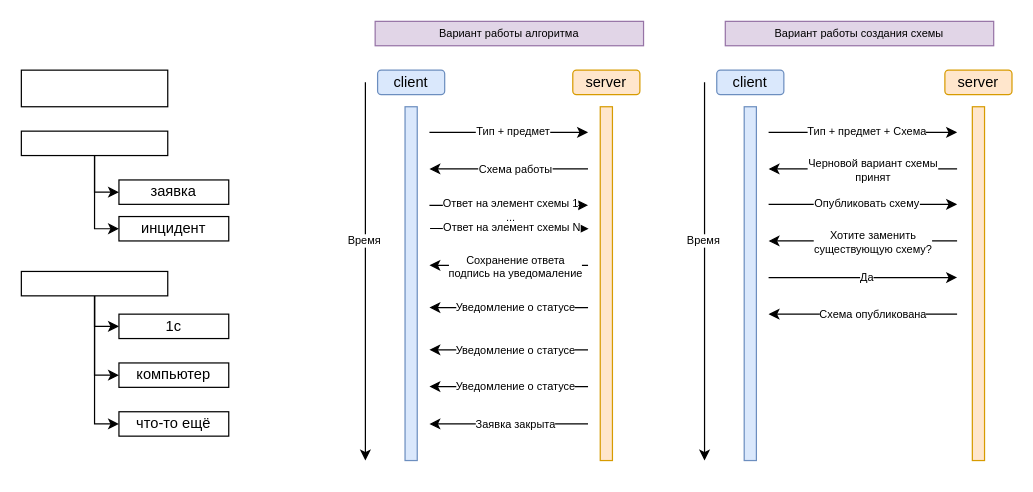
Some shapes in this 1033 by 492 pixel diagram are drawn without their labels. Here are the shapes that lost their labels. From the top down, the centre of each, then its label:
At (94,88): "Стандартный вид".
At (94,143): "Тип".
At (94,283): "Предмет".
